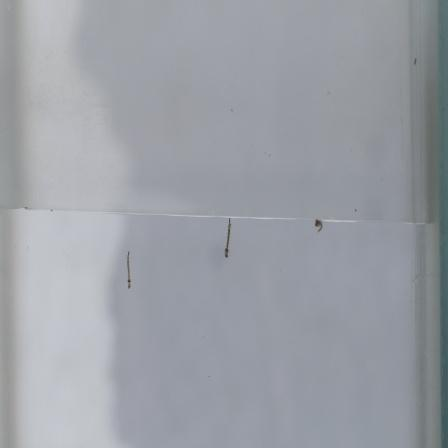Jentik-Nyamuk: (220, 215, 235, 261), (122, 249, 135, 290), (313, 218, 324, 235)
